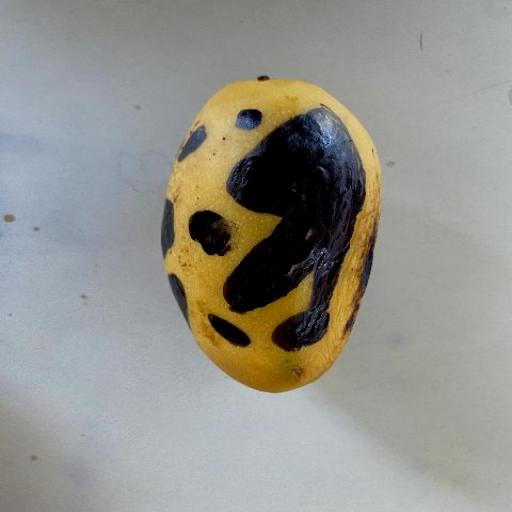mango-overripe: (128, 35, 396, 420)
